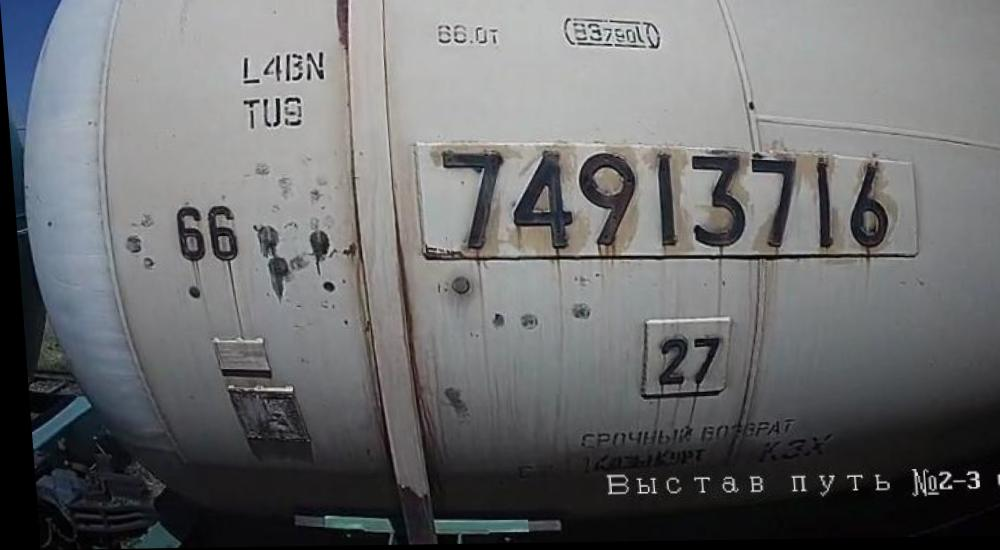Wagon-number: (422, 142, 893, 267)
